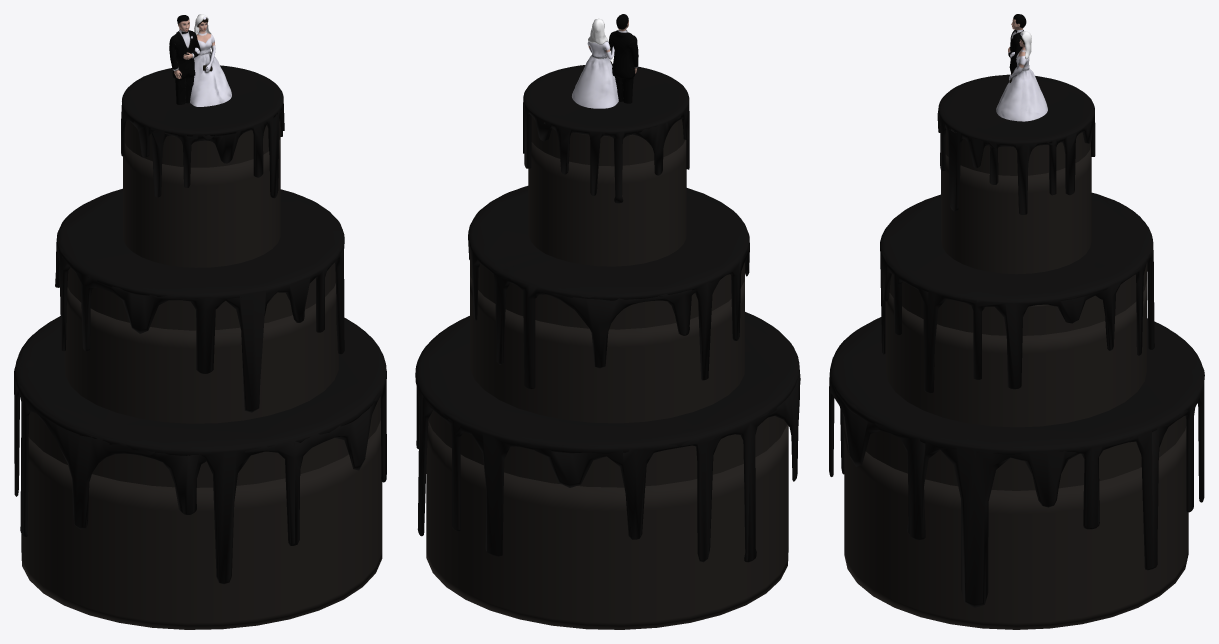
File: 3-tier-black-ganache-bridegroom.glb
The picture shows the model from 3 angles, left to right: view 1: azimuth 30°, elevation 25°; view 2: azimuth 150°, elevation 25°; view 3: azimuth 270°, elevation 25°; orthographic projection. The views are drawn at different scales.
Parts seen in each view (by area): view 1: Cylinder.022, tHE ICING.005, Cylinder.014, tHE ICING.002, Cylinder.021, tHE ICING.001, 13501_Cake_Topper_Bride_Groom_v1_L1.002; view 2: Cylinder.022, tHE ICING.005, Cylinder.014, tHE ICING.002, Cylinder.021, tHE ICING.001, 13501_Cake_Topper_Bride_Groom_v1_L1.002; view 3: Cylinder.022, tHE ICING.005, Cylinder.014, tHE ICING.002, Cylinder.021, tHE ICING.001, 13501_Cake_Topper_Bride_Groom_v1_L1.002.
Part boxes in pixels (box(x1,y1,x2,y2)): Cylinder.022: box(21, 396, 382, 629); tHE ICING.005: box(14, 316, 386, 584); Cylinder.014: box(64, 262, 338, 423); tHE ICING.002: box(55, 188, 344, 412); Cylinder.021: box(123, 119, 280, 267); tHE ICING.001: box(121, 65, 284, 198); 13501_Cake_Topper_Bride_Groom_v1_L1.002: box(169, 14, 231, 106); Cylinder.022: box(426, 411, 788, 629); tHE ICING.005: box(415, 312, 800, 562); Cylinder.014: box(470, 249, 744, 423); tHE ICING.002: box(468, 186, 749, 389); Cylinder.021: box(528, 116, 686, 266); tHE ICING.001: box(523, 64, 689, 203); 13501_Cake_Topper_Bride_Groom_v1_L1.002: box(572, 14, 638, 108); Cylinder.022: box(844, 416, 1188, 629); tHE ICING.005: box(829, 317, 1204, 607); Cylinder.014: box(885, 262, 1147, 427); tHE ICING.002: box(880, 192, 1154, 393); Cylinder.021: box(941, 130, 1091, 274); tHE ICING.001: box(937, 74, 1095, 214); 13501_Cake_Topper_Bride_Groom_v1_L1.002: box(996, 14, 1047, 121).
Bounding box in the file's own units: 4.33 × 6.91 × 4.43.
Materials: 3 (1 with a texture image).
